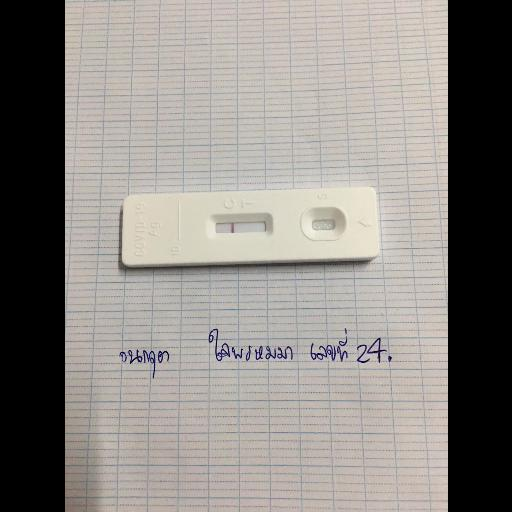Neg: (120, 184, 379, 264)
